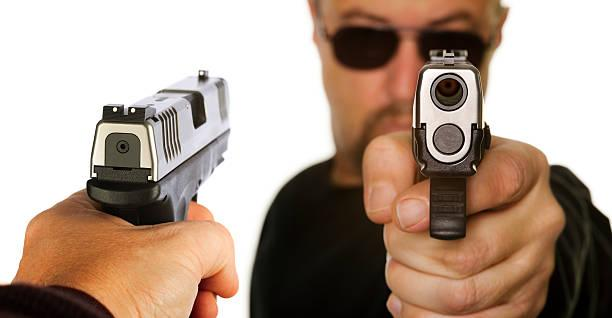weapon: (86, 64, 234, 227), (405, 42, 486, 241)
